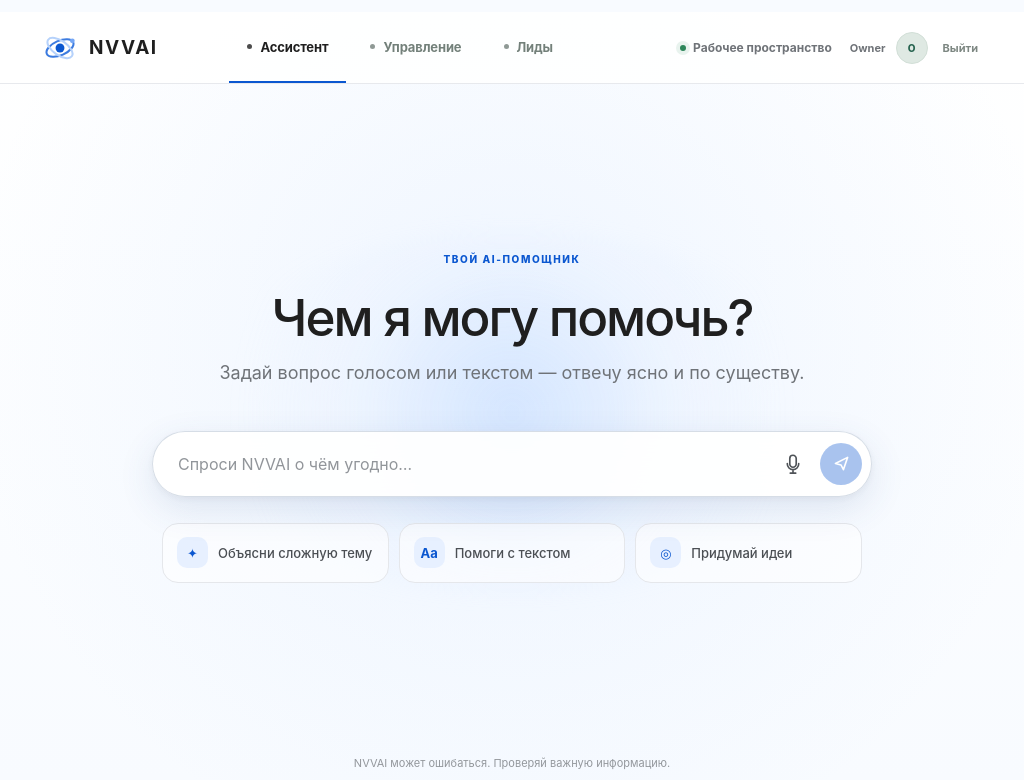
Test case: fills the prompt when an example is selected
Expected: the heading "Чем я могу помочь?" is shown, top-left (272, 286), bottom-right (752, 348)
Step 1. Click the button "✦ Объясни сложную тему" → (275, 553), box top-left (162, 523), bottom-right (389, 583)
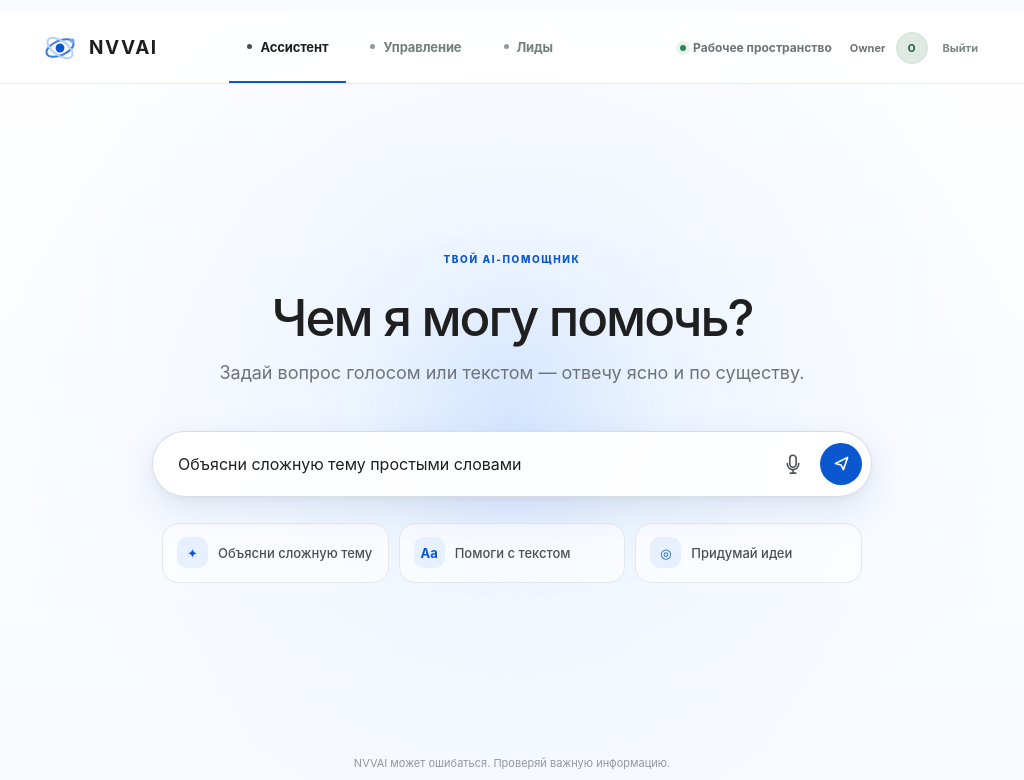
Expected: the text box holds "Объясни сложную тему простыми словами", top-left (176, 450), bottom-right (766, 478)
